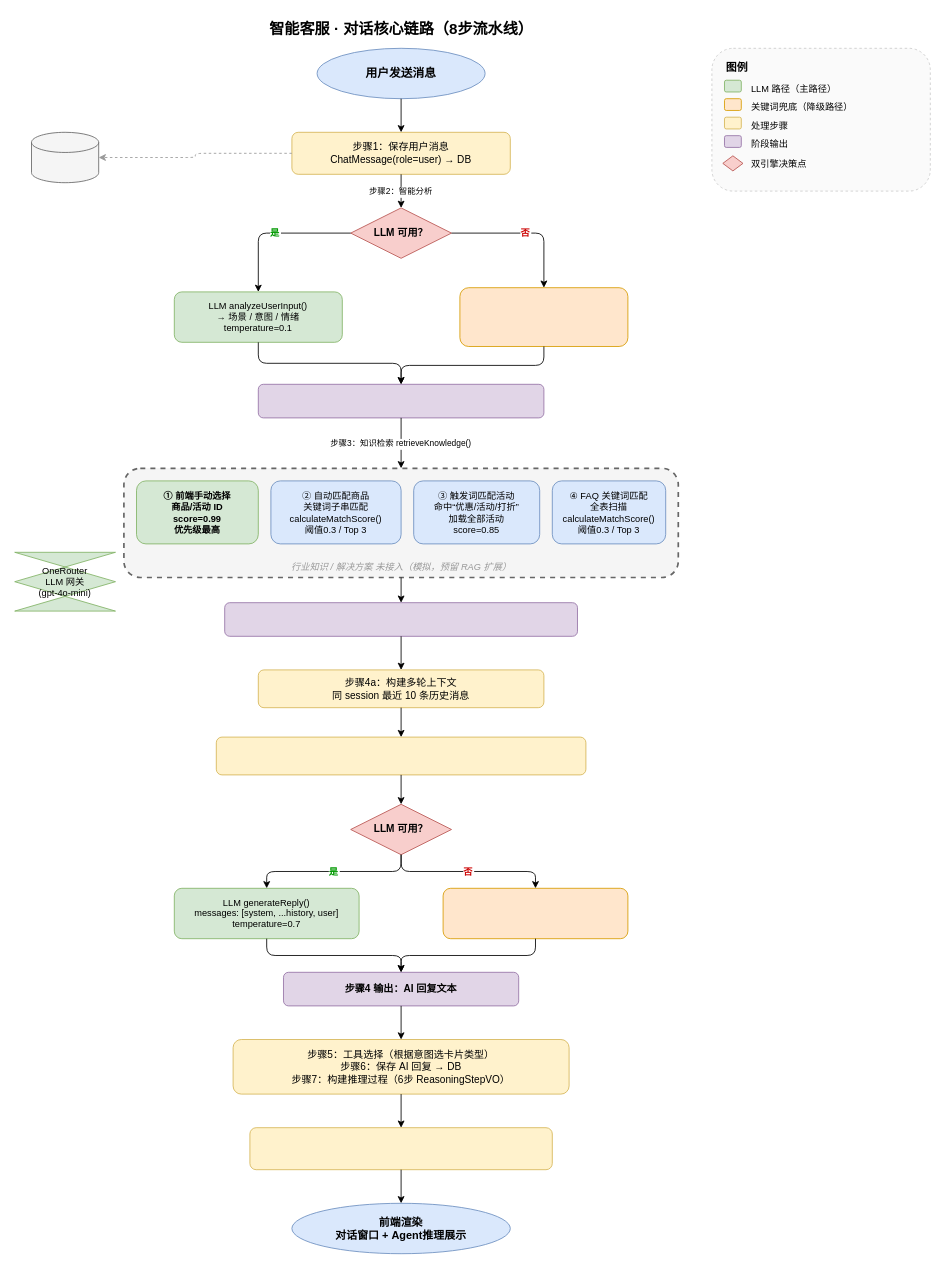
Image size: 945x1268. Some labels were removed from this diagram. Here are the shapes that lost their labels. From the top down, the centre of each, then its label:
At (65,157): "MySQL 10张表".
At (543,316): "关键词兜底 recognizeSceneFallback() analyzeIntentFallback() analyzeEmotionFallback()".
At (400,400): "步骤2 输出：sceneType / intent / emotion".
At (401,619): "步骤3 输出：KnowledgeRecallVO（商品 + 活动 + FAQ）".
At (400,755): "步骤4b：提示词组装 buildEnhancedPrompt() 系统提示词 + 场景/意图/情绪 + 知识上下文".
At (535,913): "规则引擎兜底 generateReply() 基于意图+知识的模板回复".
At (400,1148): "步骤8：构建响应返回 SendMessageVO（回复 + 卡片 + 推理过程）".
